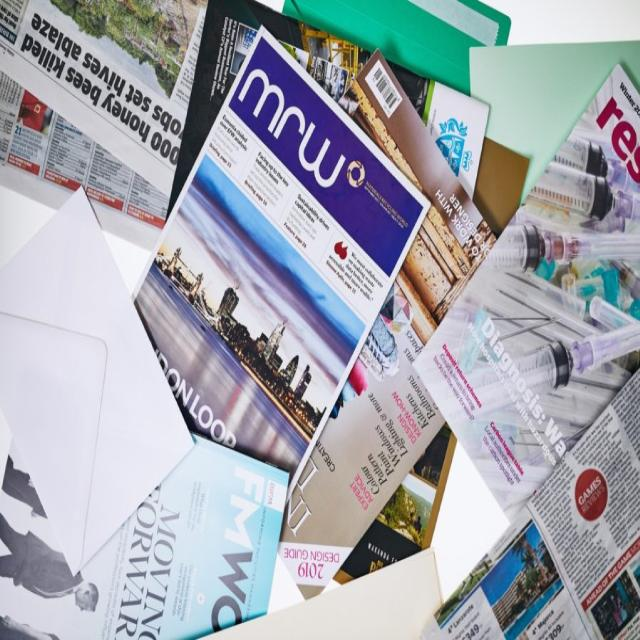newspaper: (0, 0, 201, 235)
